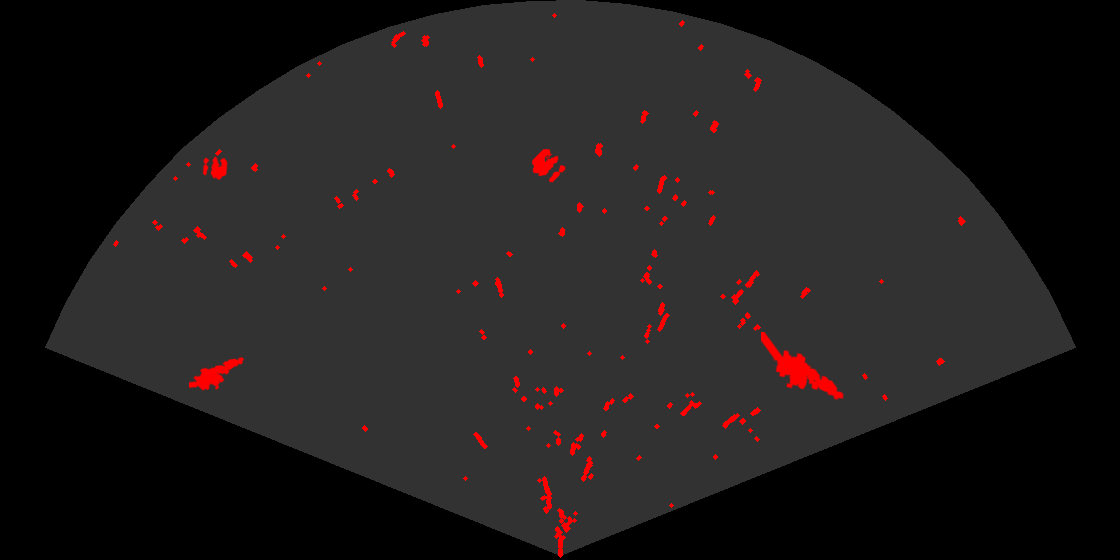ball: (530, 147, 567, 184), (201, 155, 229, 181)
frogman: (761, 332, 845, 402), (189, 356, 247, 392)
